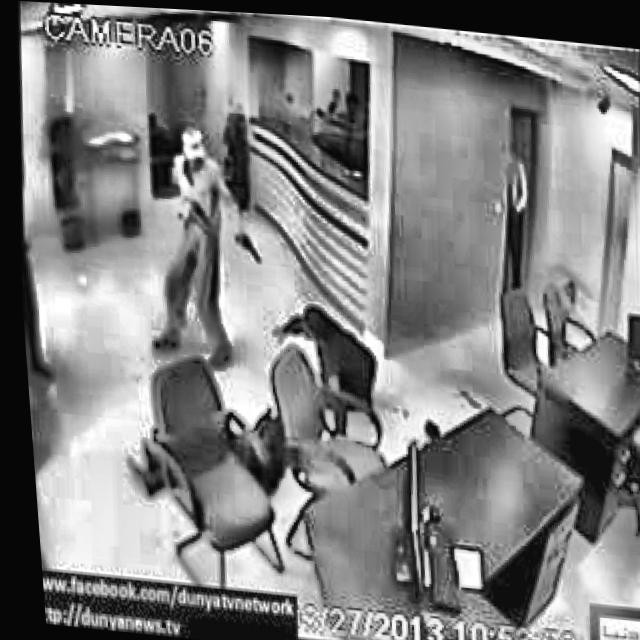robbery: (126, 112, 277, 377)
